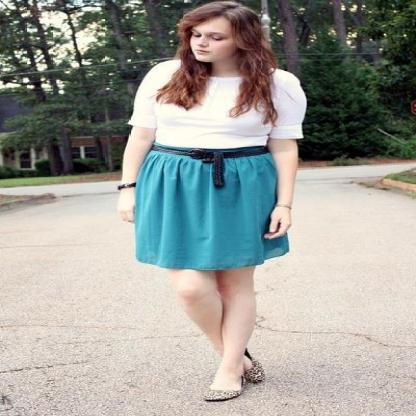shirt: (128, 60, 306, 148)
shoe: (192, 368, 264, 400)
skirt: (132, 142, 288, 271)
